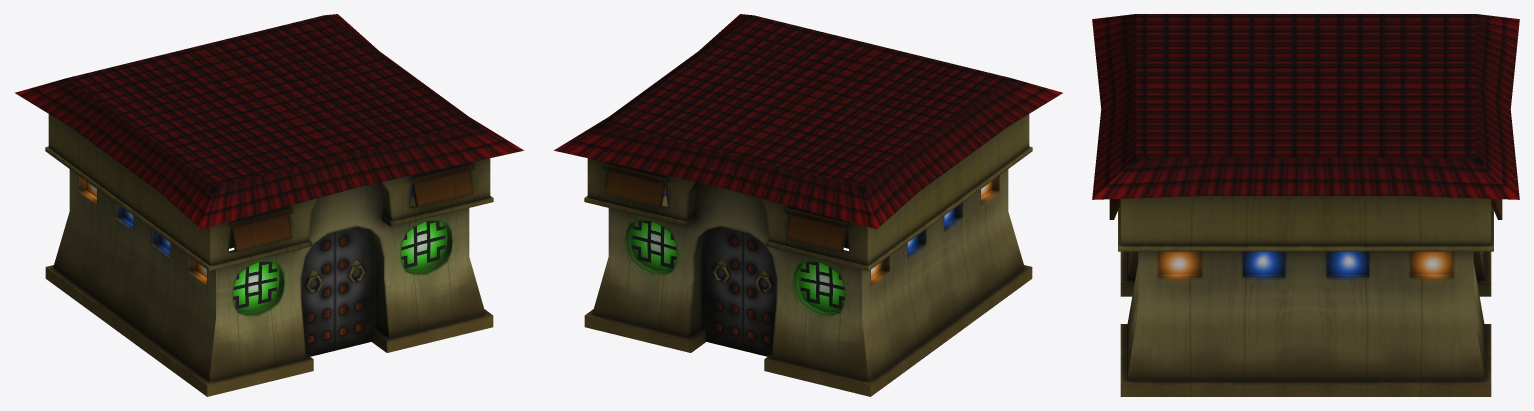
File: MESH_AMB15_House1.fbx
3 views of the same model, side by side, from view 1: azimuth 30°, elevation 25°; view 2: azimuth 150°, elevation 25°; view 3: azimuth 270°, elevation 25° (orthographic). The views are drawn at different scales.
Visible parts, largest first — view 1: BAse; view 2: BAse; view 3: BAse.
Boxes of the visible parts, bbox=[...] form: BAse: bbox=[15, 14, 523, 396]; BAse: bbox=[554, 14, 1062, 396]; BAse: bbox=[1092, 14, 1519, 396].
Bounding box in the file's own units: 12.76 × 7.61 × 12.76.
